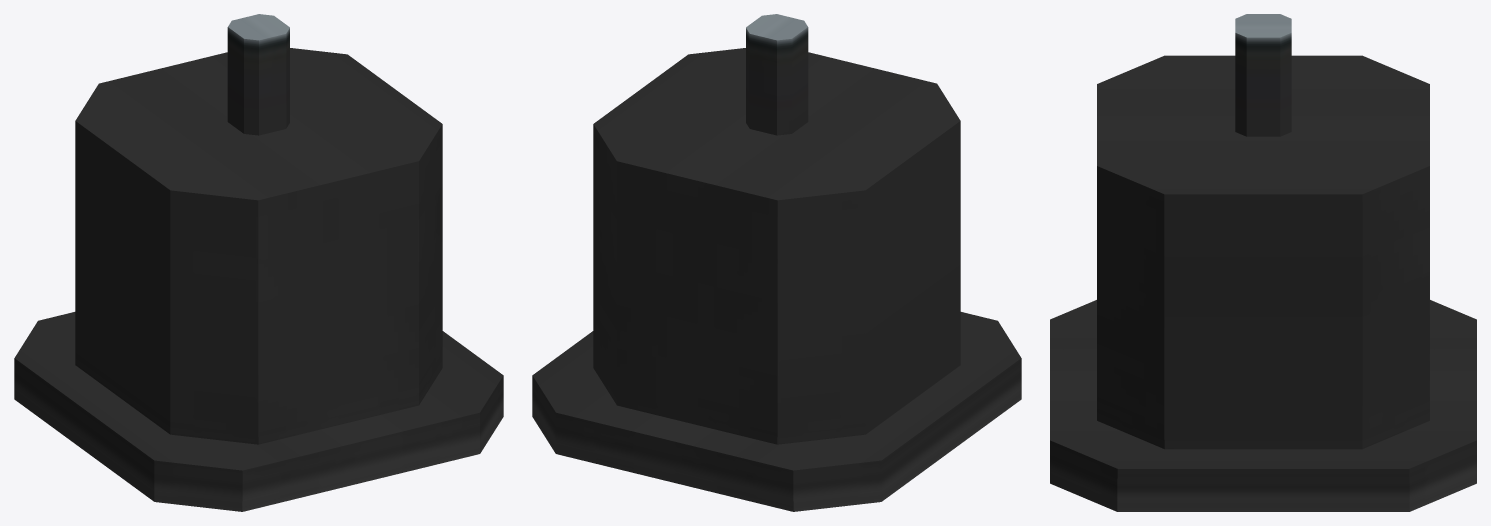
The model's file is StandHead.fbx.
3 renders of one model, left to right at view 1: azimuth 30°, elevation 25°; view 2: azimuth 150°, elevation 25°; view 3: azimuth 270°, elevation 25°, orthographic. The views are drawn at different scales.
Parts seen in each view (by area): view 1: Cube.040; view 2: Cube.040; view 3: Cube.040.
Boxes of the visible parts, x1,y1,x2,y2 form: Cube.040: [14, 14, 503, 511]; Cube.040: [532, 14, 1021, 511]; Cube.040: [1050, 14, 1476, 511].
Size of the model in its own units: 192 by 200 by 195.
Materials: 1 (1 with a texture image).
